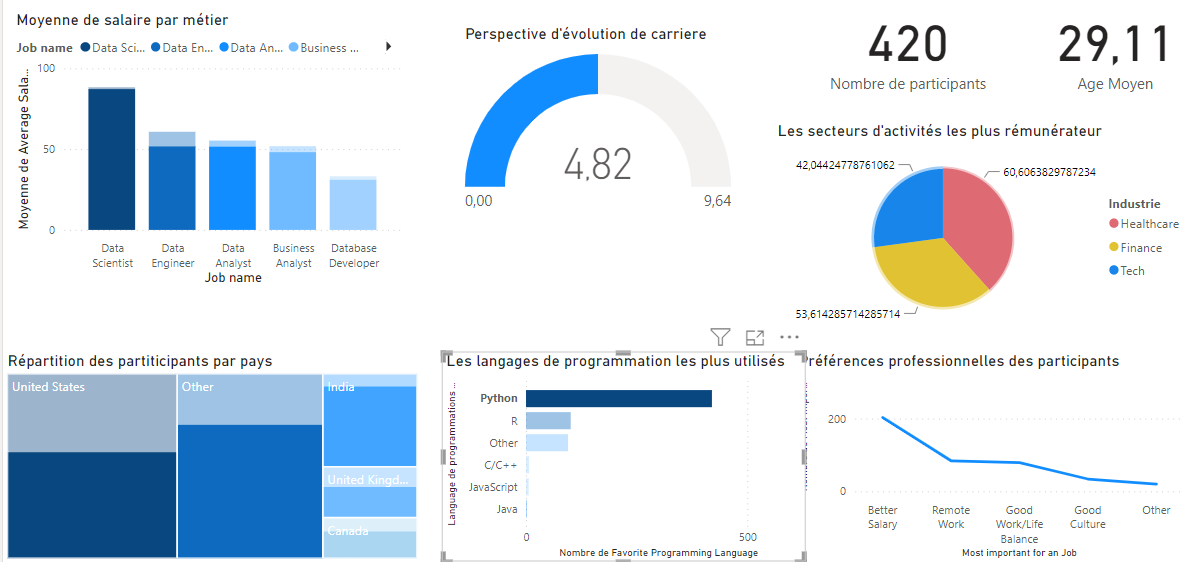

What the dashboard file says about the page in this screenshot:
{"tool":"powerbi","page":{"name":"Page 1","canvas":[1280,720],"ordinal":0},"visuals":[{"type":"textbox","box":[9.4,0,1270.9,104.9],"z":0},{"type":"columnChart","title":"Moyenne de salaire par métier","fields":{"Category":["SurveyData.Job name"],"Y":["Avg(SurveyData.Average Salary)"],"Series":["SurveyData.Job name"]},"box":[9.4,125.1,425,301.2],"z":1000},{"type":"card","fields":{"Values":["Avg(SurveyData.Current_Age)"]},"box":[1113.5,104.9,166.8,119.7],"z":2000},{"type":"card","fields":{"Values":["CountNonNull(SurveyData.Unique ID)"]},"box":[851.3,104.9,244.8,119.7],"z":3000},{"type":"barChart","title":"Les langages de programmation les plus utilisés","fields":{"Category":["SurveyData.Favorite Programming Language"],"Y":["CountNonNull(SurveyData.Favorite Programming Language)"]},"box":[472,492.2,391.3,227.3],"z":4000},{"type":"treemap","title":"Répartition des partiticipants par pays","fields":{"Group":["SurveyData.Country"],"Values":["CountNonNull(SurveyData.Country)"]},"box":[0,492.2,450.5,227.3],"z":5000},{"type":"pieChart","title":"Les secteurs d''activités les plus rémunérateur ","fields":{"Y":["Avg(SurveyData.Average Salary)"],"Category":["SurveyData.Industrie"]},"box":[828.4,244.8,451.9,231.3],"z":6000},{"type":"gauge","title":"Perspective d''évolution de carriere","fields":{"Y":["Avg(SurveyData.Upward Mobility notation)"]},"box":[492.2,139.9,295.9,220.6],"z":8001},{"type":"lineChart","title":"Préférences professionnelles des participants","fields":{"Category":["SurveyData.Most important for an Job"],"Y":["CountNonNull(SurveyData.Most important for an Job)"]},"box":[851.3,492.2,429,227.3],"z":8002}]}

Visuals, with their boxes on the page's 1280x720 design canvas (x1, y1, x2, y2). These are canvas units, not pixel positions in the 1191x562 screenshot, which may show the page scaled, cropped or inside an application window:
textbox: box(9, 0, 1280, 105)
"Moyenne de salaire par métier" columnChart: box(9, 125, 434, 426)
card - Avg(SurveyData.Current_Age): box(1114, 105, 1280, 225)
card - CountNonNull(SurveyData.Unique ID): box(851, 105, 1096, 225)
"Les langages de programmation les plus utilisés" barChart: box(472, 492, 863, 720)
"Répartition des partiticipants par pays" treemap: box(0, 492, 450, 720)
"Les secteurs d''activités les plus rémunérateur " pieChart: box(828, 245, 1280, 476)
"Perspective d''évolution de carriere" gauge: box(492, 140, 788, 360)
"Préférences professionnelles des participants" lineChart: box(851, 492, 1280, 720)
